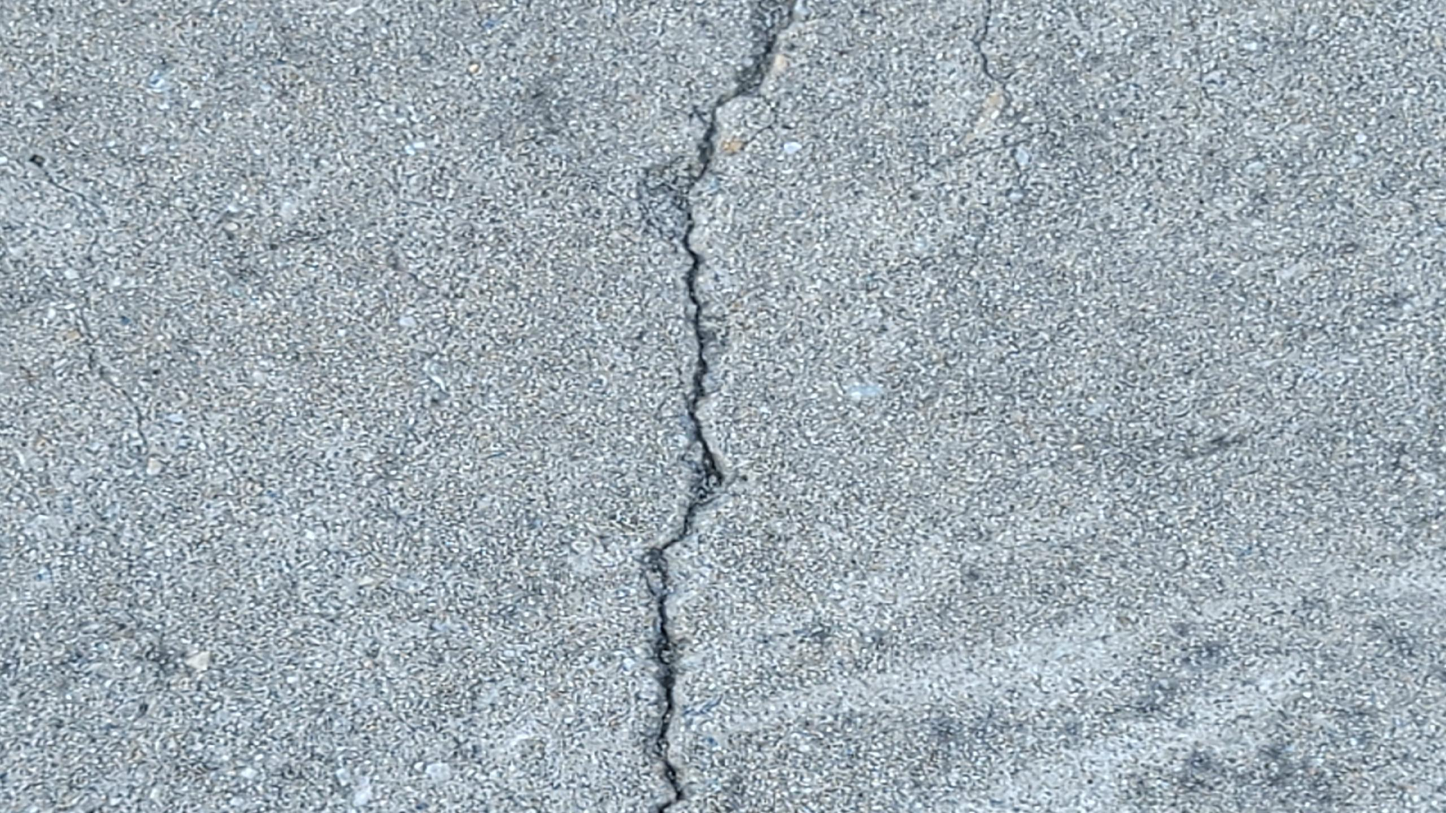crack: (628, 4, 805, 812)
